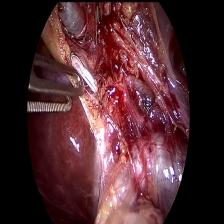Bipolar: (22, 51, 85, 118)
